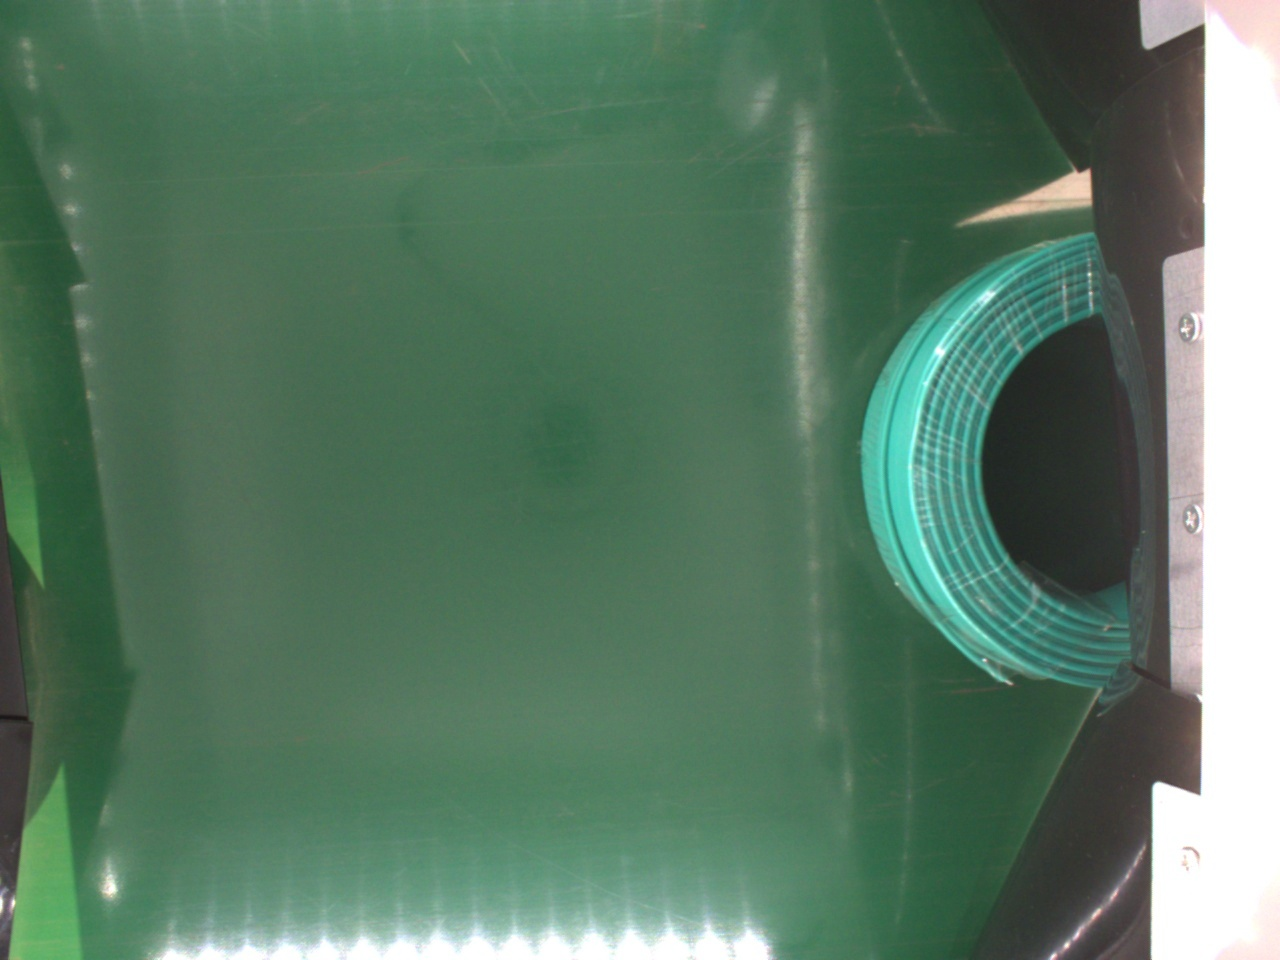green: (868, 235, 1145, 700)
